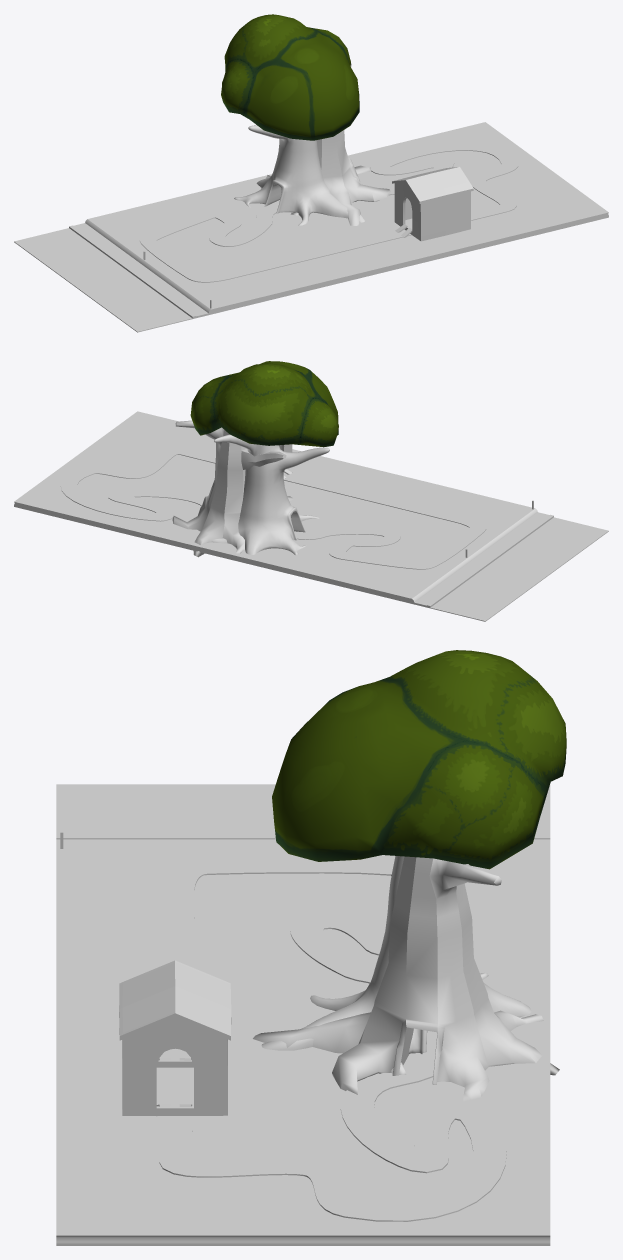
Rendered from RaceTrackBlockout3.glb.
The picture shows the model from 3 angles, top to bottom: view 1: azimuth 30°, elevation 25°; view 2: azimuth 150°, elevation 25°; view 3: azimuth 270°, elevation 25°; orthographic projection. The views are drawn at different scales.
Visible parts, largest first — view 1: Ground, Boombladeren, RaceTrack, Tree, DogHouse, Tree_LP; view 2: Ground, Boombladeren, RaceTrack, Tree, Tree_LP; view 3: Ground, Boombladeren, RaceTrack, Tree_LP, DogHouse, Tree.
Boxes of the visible parts, x1,y1,x2,y2 form: Ground: (14,122,608,332); Boombladeren: (221,14,359,140); RaceTrack: (139,143,518,282); Tree: (234,125,365,225); DogHouse: (392,167,473,241); Tree_LP: (266,63,390,225); Ground: (14,411,608,621); Boombladeren: (190,361,338,447); RaceTrack: (60,446,486,569); Tree: (211,434,329,555); Tree_LP: (172,420,293,557); Ground: (56,784,550,1245); Boombladeren: (272,650,566,869); RaceTrack: (159,858,506,1221); Tree_LP: (253,856,559,1101); DogHouse: (119,960,231,1116); Tree: (261,856,531,1074).
Size of the model in its own units: 193 by 71.35 by 90.53.
Materials: 1 (1 with a texture image).
